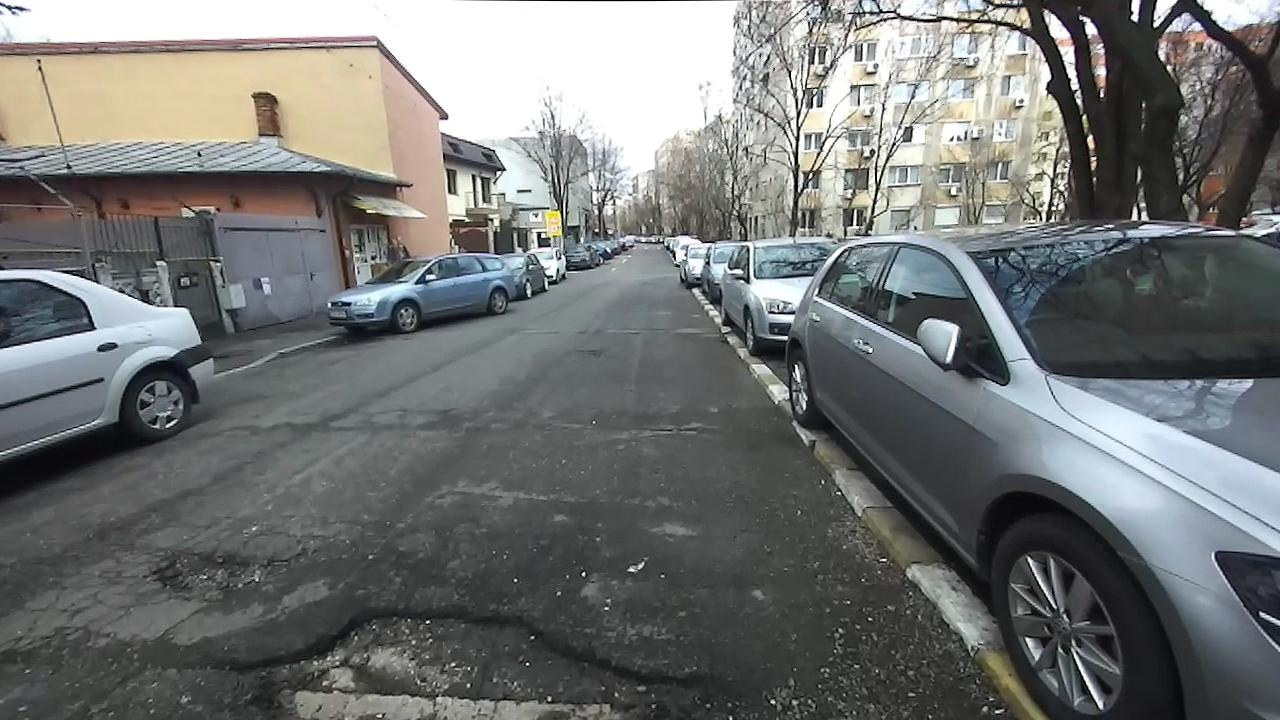pothole: (204, 606, 722, 719), (141, 541, 315, 604), (625, 416, 714, 444)
